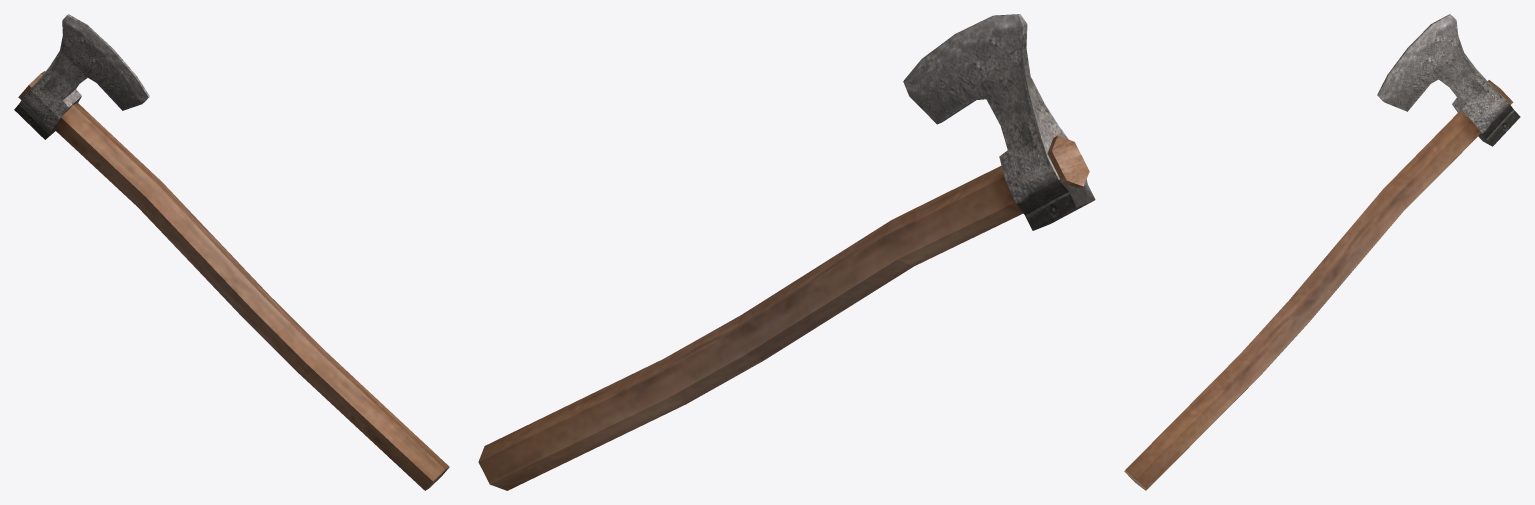
File: Axe.fbx
3 renders of one model, left to right at view 1: azimuth 30°, elevation 25°; view 2: azimuth 210°, elevation 25°; view 3: azimuth 270°, elevation 25°, orthographic. The views are drawn at different scales.
Parts seen in each view (by area): view 1: Cylinder, Cube; view 2: Cylinder, Cube; view 3: Cylinder, Cube.
Part boxes in pixels (<box>): Cylinder: <box>18,71,449,490</box>; Cube: <box>14,14,149,139</box>; Cylinder: <box>478,135,1089,490</box>; Cube: <box>903,14,1095,230</box>; Cylinder: <box>1124,80,1513,490</box>; Cube: <box>1377,14,1520,146</box>.
Size of the model in its own units: 584 by 944 by 883.
